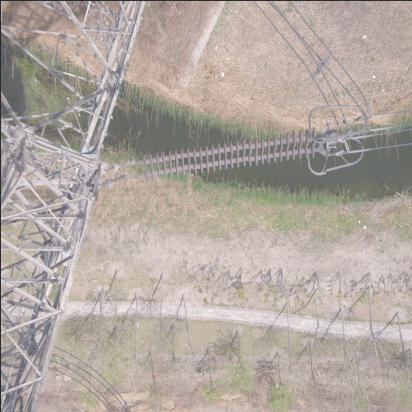insulator: (118, 127, 326, 187)
